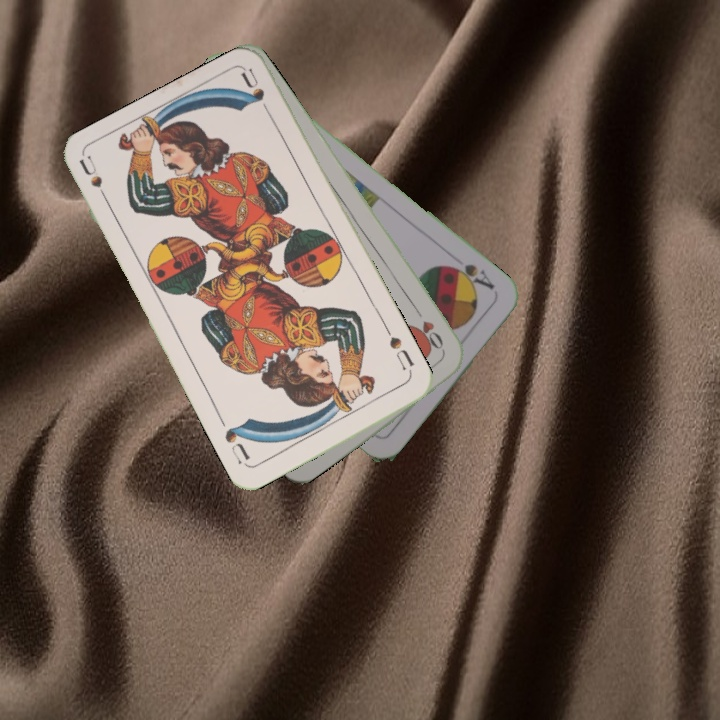HO: (410, 302, 448, 355)
SA: (445, 259, 497, 293)
SU: (76, 153, 114, 210), (385, 332, 417, 373)
